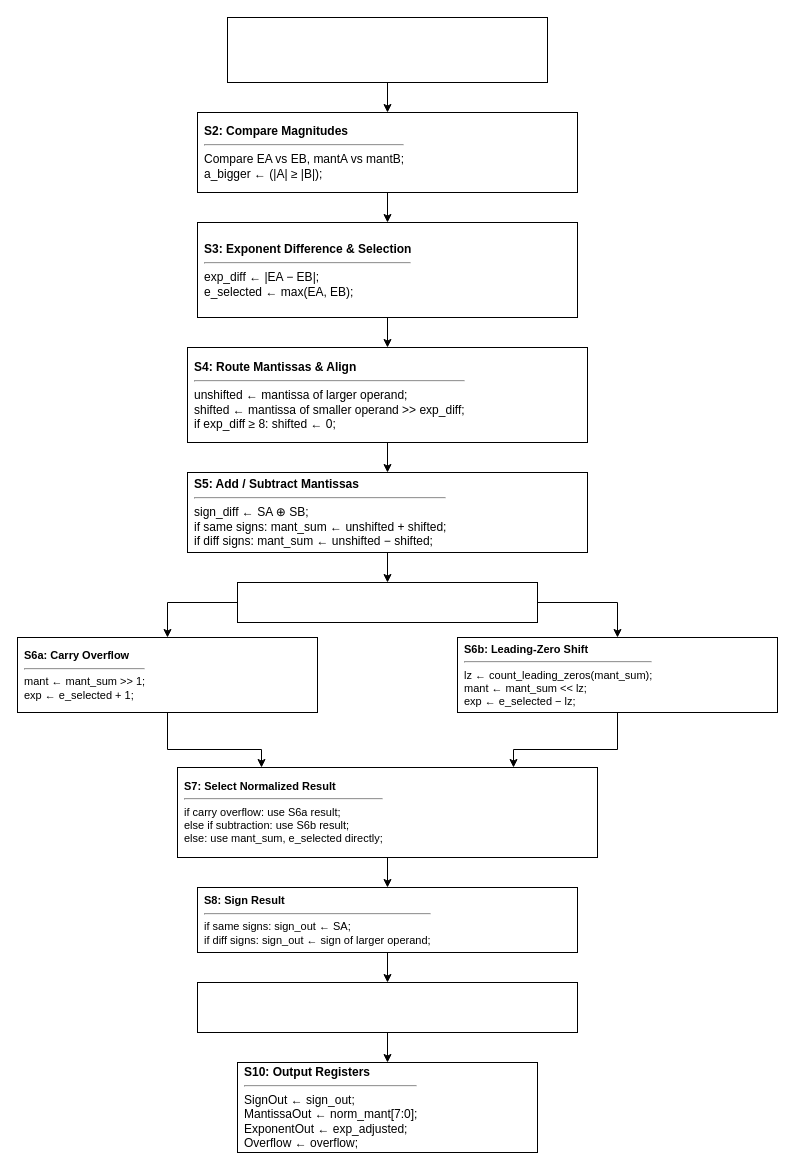
Image size: 795x1170. Some labels were removed from this diagram. Each missing label, with the centre of its shape:
S1: Prepend Implicit '1' mantA ← '1' & MA; mantB ← '1' & MB;: the point at 387,49
S6: Normalize: the point at 387,602
S9: Overflow overflow ← 1 if carry normalization causes exponent overflow;: the point at 387,1007
